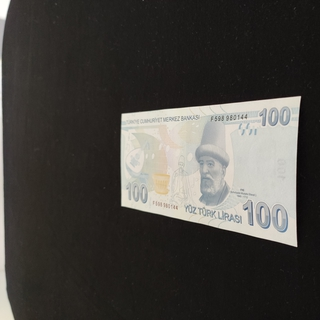100TLBack: (120, 95, 301, 247)
